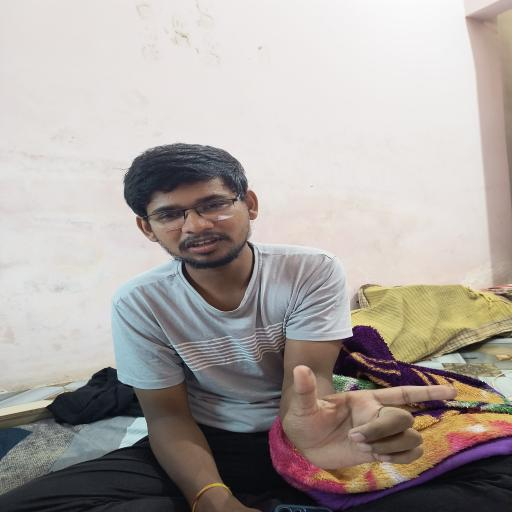Sorry: (275, 358, 474, 482)
